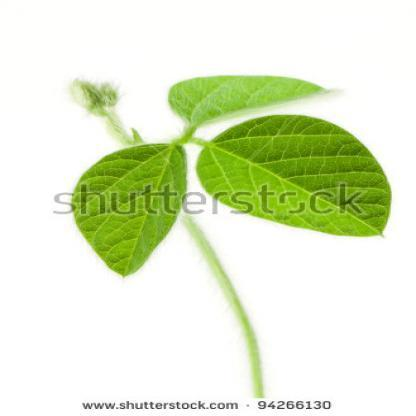Soyabean leaf: (200, 110, 394, 252), (65, 134, 190, 285), (160, 69, 338, 126)
